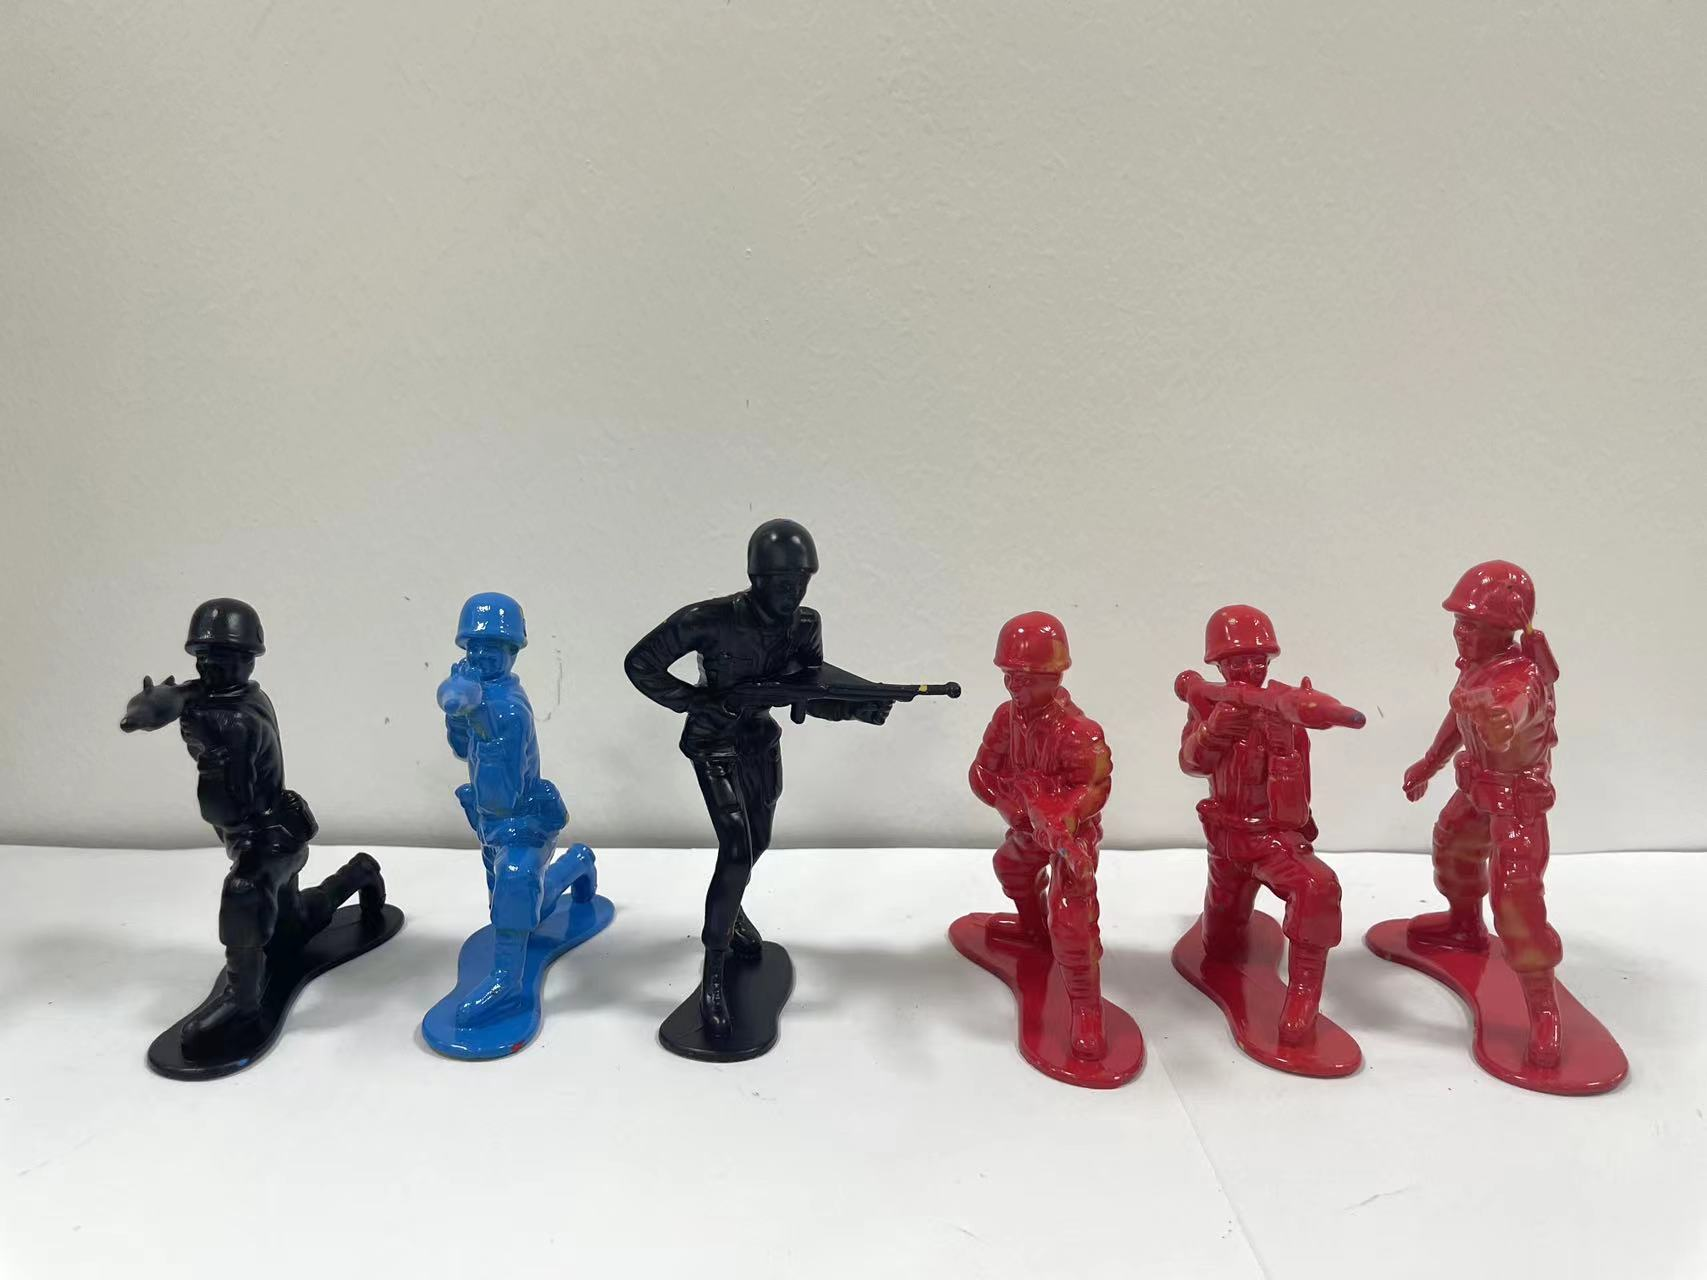black: (620, 481, 956, 1128), (79, 555, 421, 1143)
blue: (418, 549, 637, 1111)
red: (1356, 527, 1671, 1146), (1140, 561, 1371, 1113), (944, 582, 1161, 1133)
